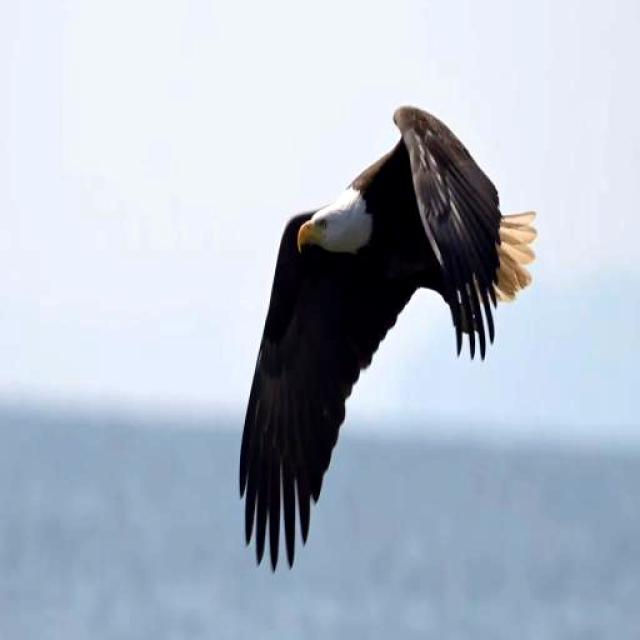airplane: (222, 69, 564, 594)
